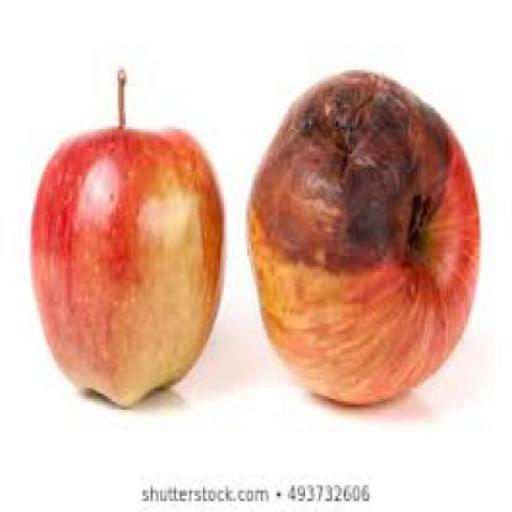biodegradable: (246, 67, 480, 407), (29, 67, 222, 404)
